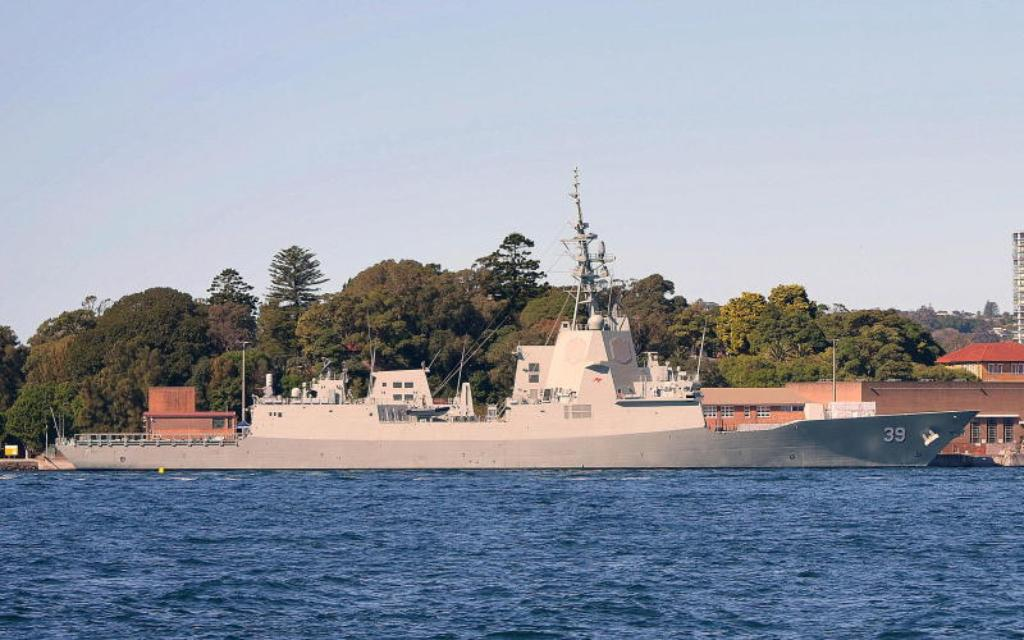Warship: (50, 165, 982, 472)
